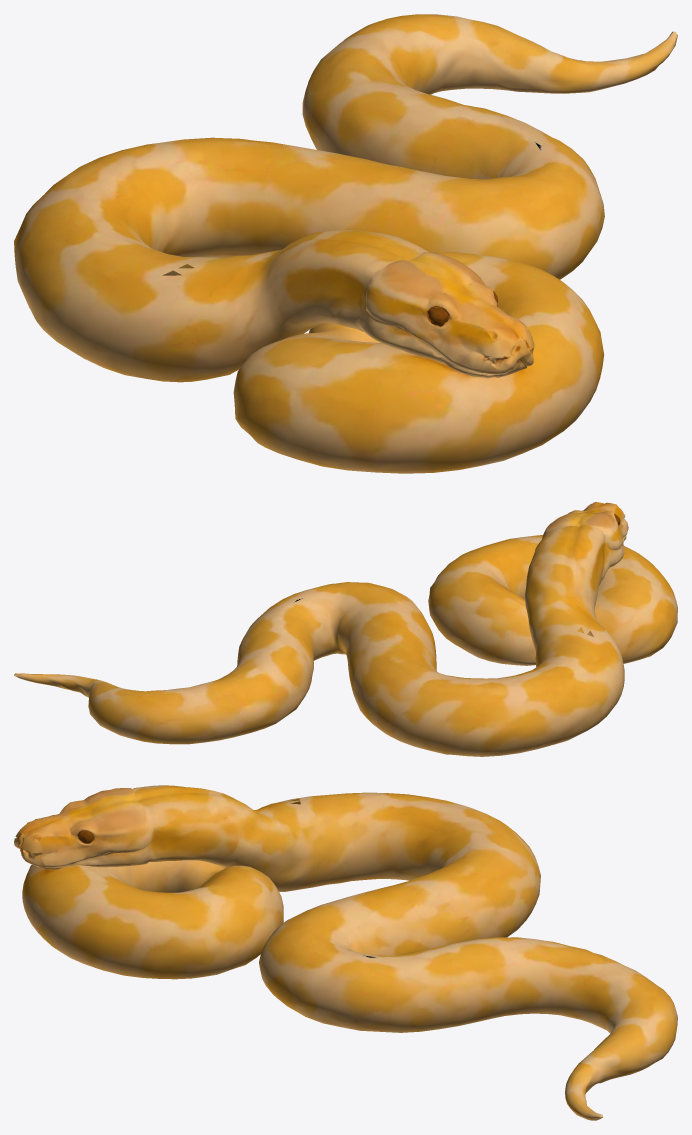
The model's file is python-hotaru.glb.
3 renders of one model, top to bottom at view 1: azimuth 30°, elevation 25°; view 2: azimuth 150°, elevation 25°; view 3: azimuth 270°, elevation 25°, orthographic. The views are drawn at different scales.
Visible parts, largest first — view 1: geometry_0; view 2: geometry_0; view 3: geometry_0.
Boxes of the visible parts, <box> form: geometry_0: <box>14,14,677,473</box>; geometry_0: <box>14,502,677,756</box>; geometry_0: <box>14,785,677,1120</box>.
Bounding box in the file's own units: 0.9473 × 0.1982 × 0.9468.
Materials: 1 (1 with a texture image).
